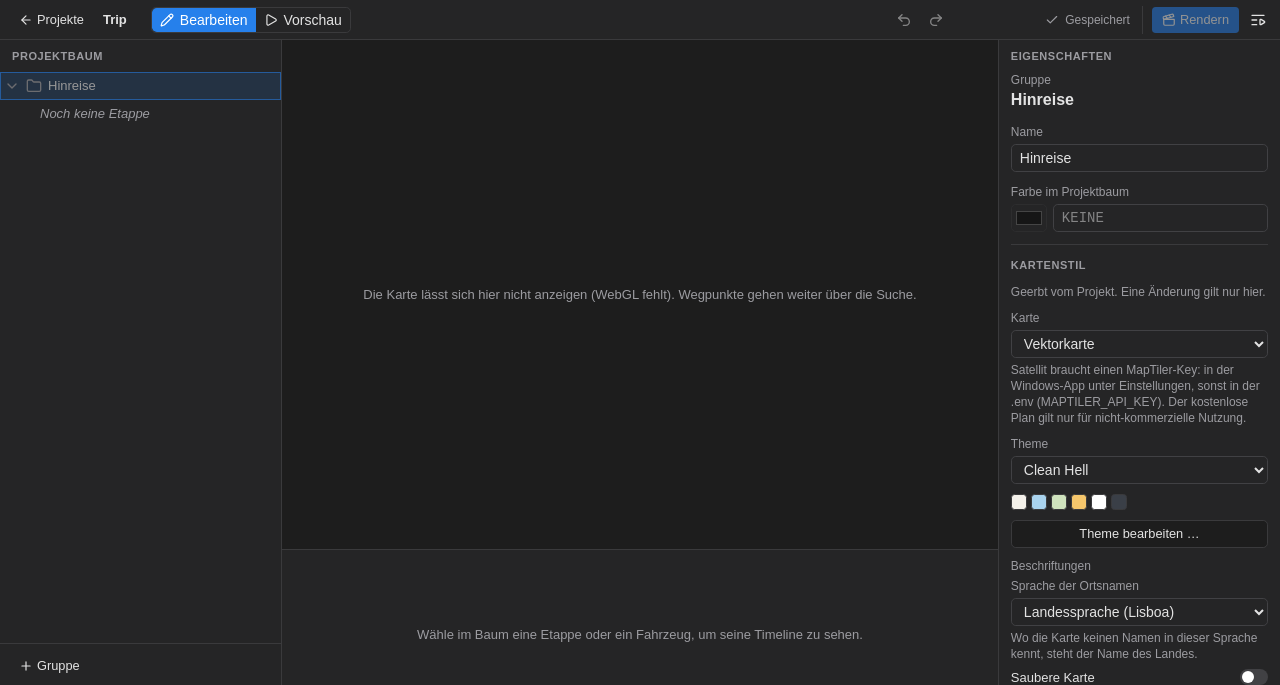
it: EditorScreen › asks before deleting a group and can undo it
This screenshot has width=1280, height=685.
Press Delete
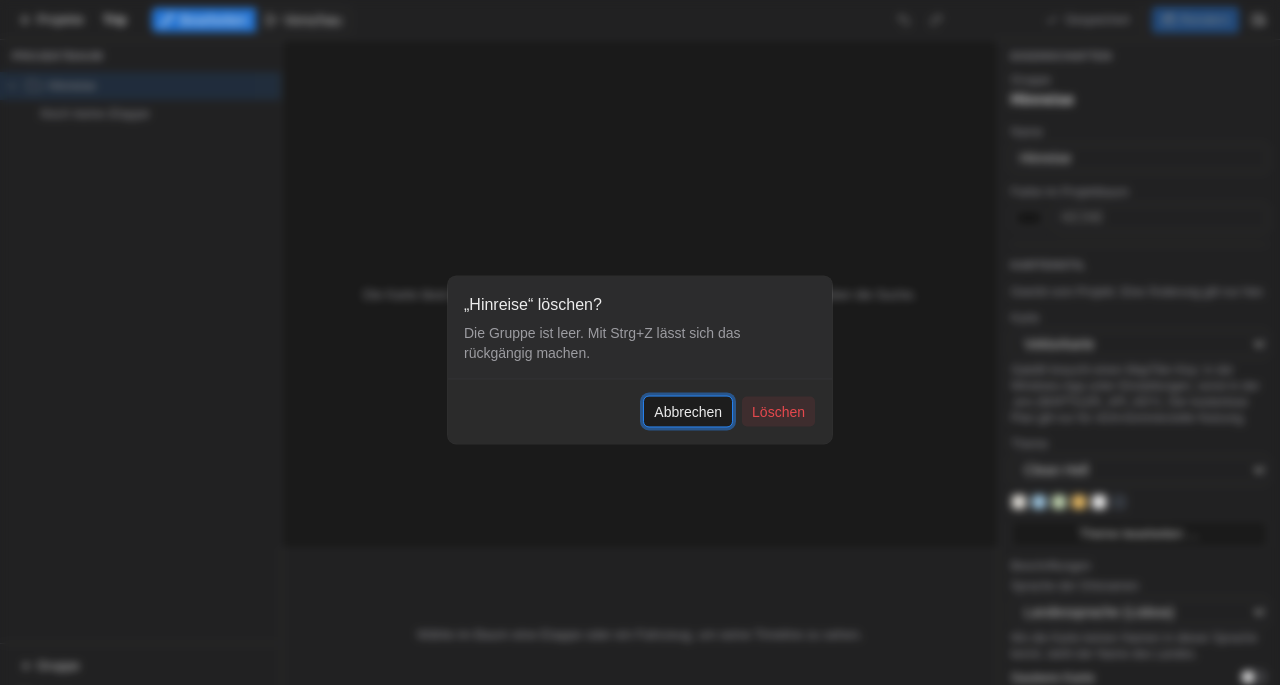
Expected: the dialog shows "„Hinreise“ löschen?", [464,296,602,312]
Click the button "Löschen" at (779, 412), box [741,396,816,428]
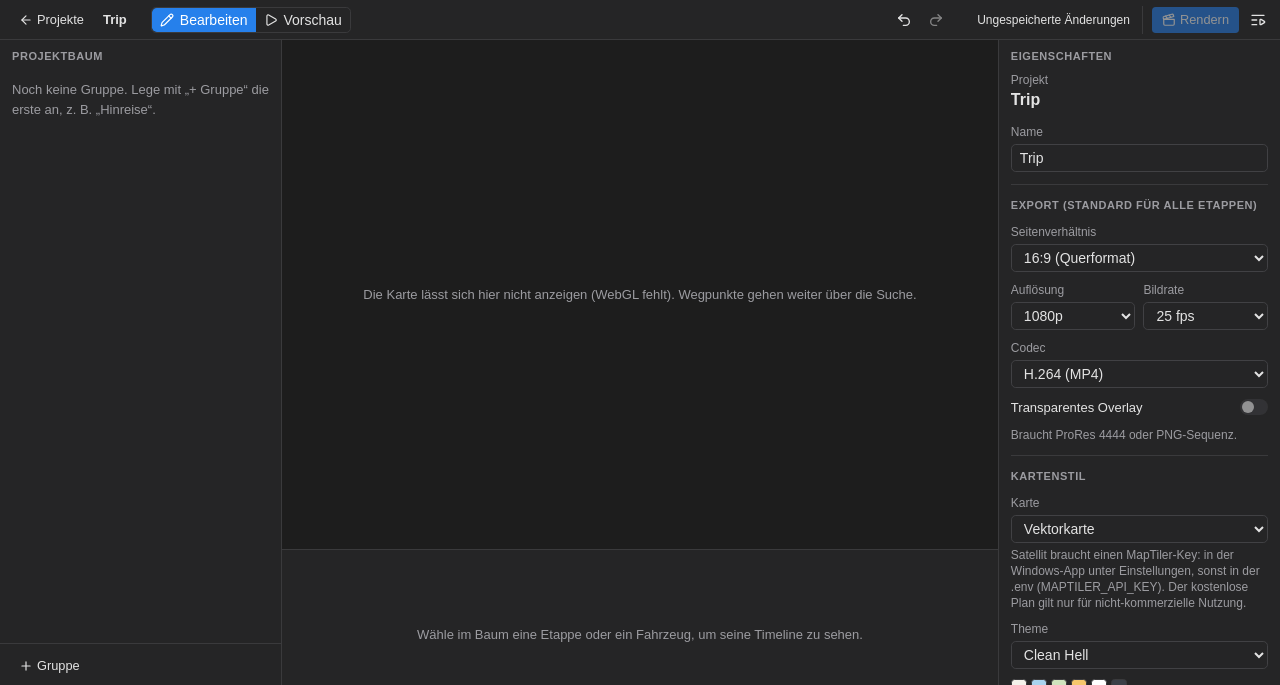
Click the button named "Rückgängig" at (904, 20), box [890,6,918,34]
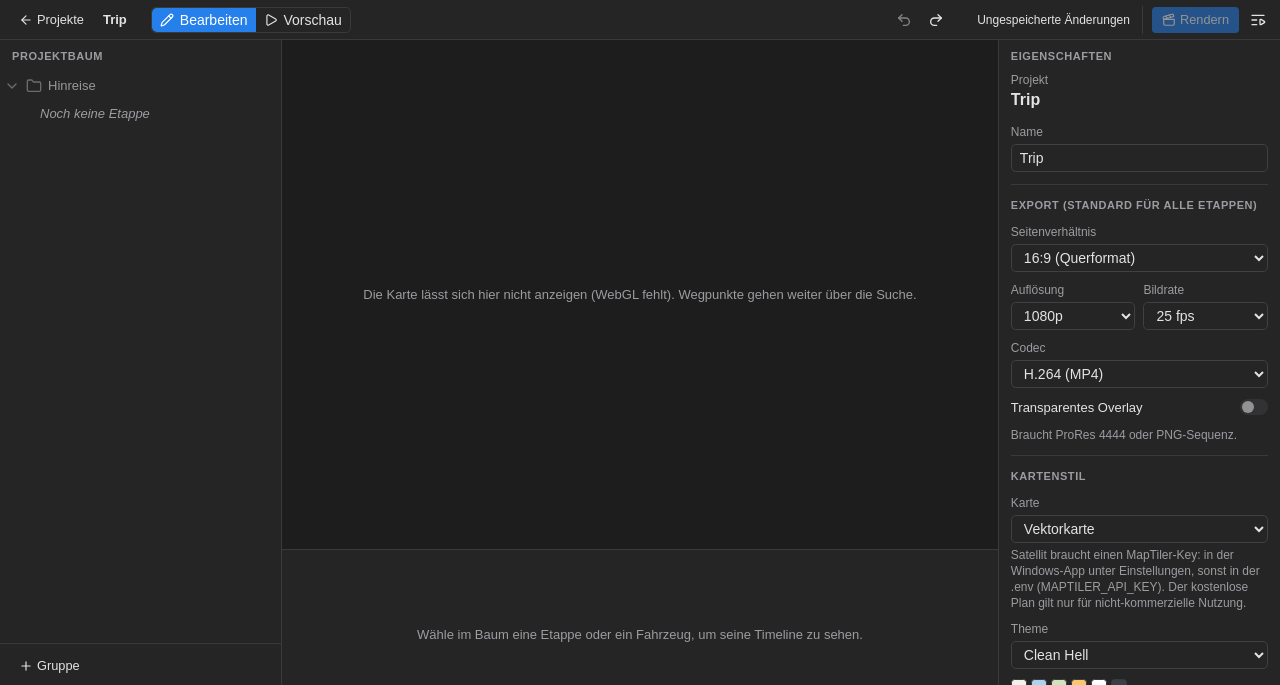
Expected: the list item "Hinreise" is shown, [4,78,150,121]
